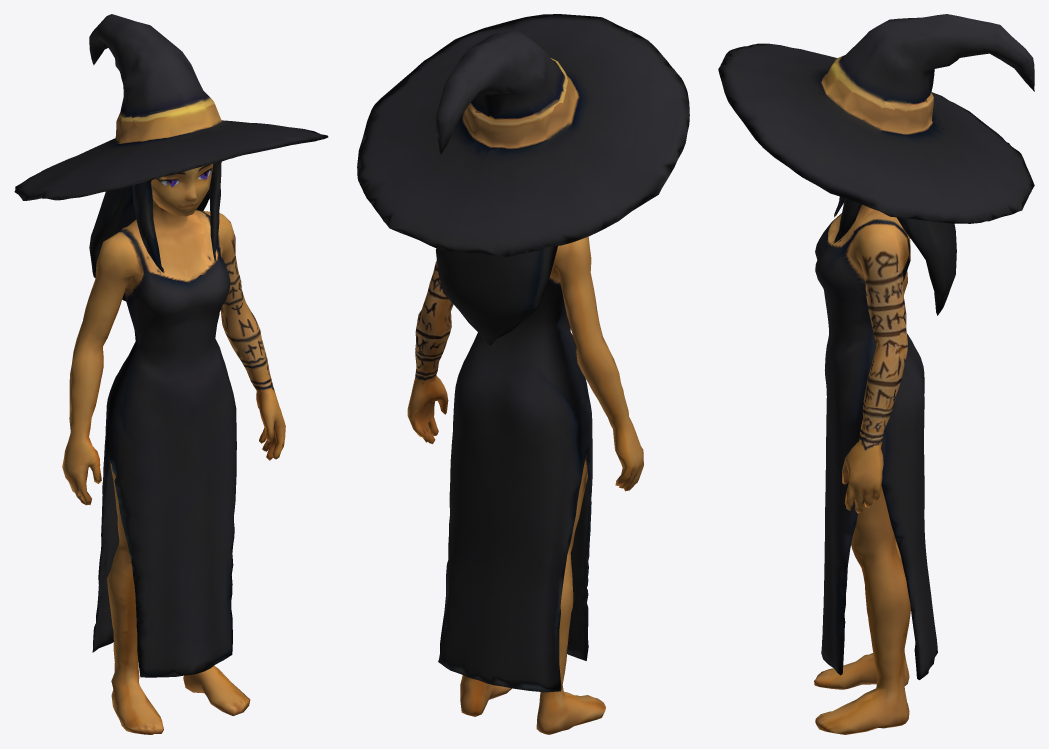
File: witch_v1_game.glb
3 renders of one model, left to right at view 1: azimuth 30°, elevation 25°; view 2: azimuth 150°, elevation 25°; view 3: azimuth 270°, elevation 25°, orthographic. The views are drawn at different scales.
Visible parts, largest first — view 1: witch; view 2: witch; view 3: witch.
Part boxes in pixels (box(x1,y1,x2,y2)): witch: box(14, 14, 328, 734); witch: box(357, 14, 689, 734); witch: box(718, 14, 1034, 734).
Size of the model in its own units: 0.8096 by 1.83 by 0.7576.
1 material, 1 textured.
